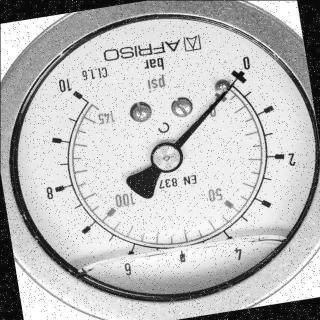gauge: (1, 0, 320, 320), (222, 54, 260, 90), (56, 74, 94, 110), (150, 142, 182, 173), (222, 76, 238, 94)
